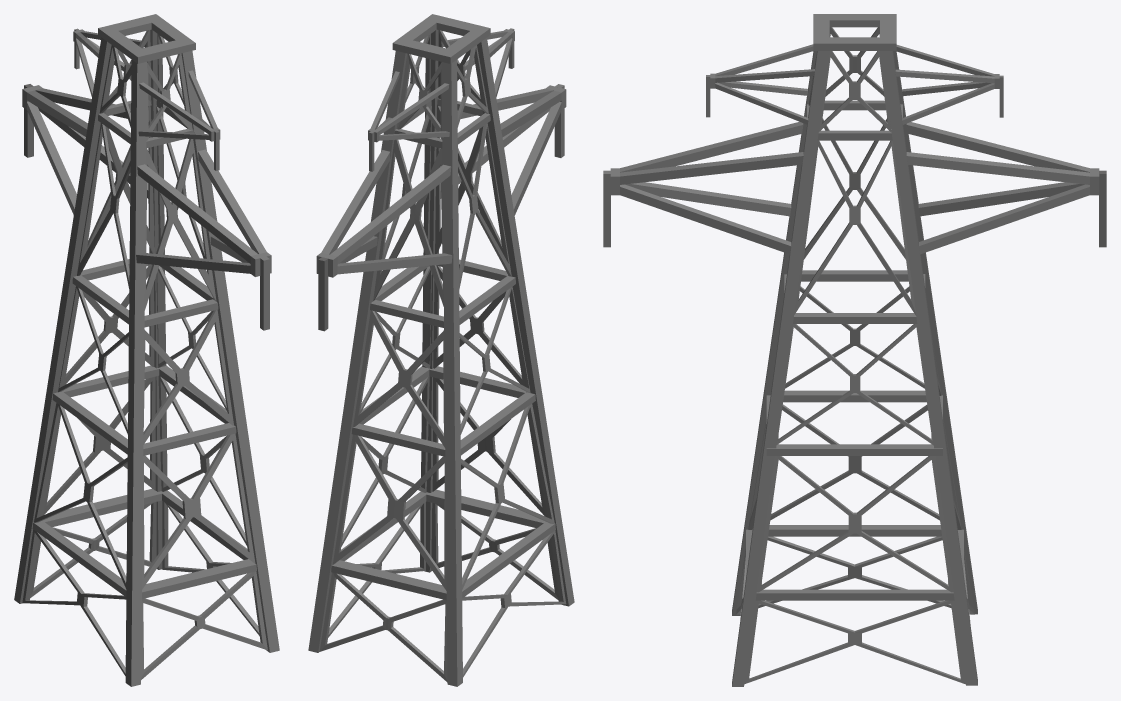
File: TransmissionTower.glb
3 renders of one model, left to right at view 1: azimuth 30°, elevation 25°; view 2: azimuth 150°, elevation 25°; view 3: azimuth 270°, elevation 25°, orthographic. The views are drawn at different scales.
Visible parts, largest first — view 1: TransmissionTower; view 2: TransmissionTower; view 3: TransmissionTower.
Boxes of the visible parts, box(x1,y1,x2,y2) form: TransmissionTower: box(14, 14, 279, 686); TransmissionTower: box(308, 14, 574, 686); TransmissionTower: box(603, 14, 1106, 686).
Size of what is drawn, in the model's own units: 6.83 by 25.93 by 19.08.
Materials: 2 (1 with a texture image).
